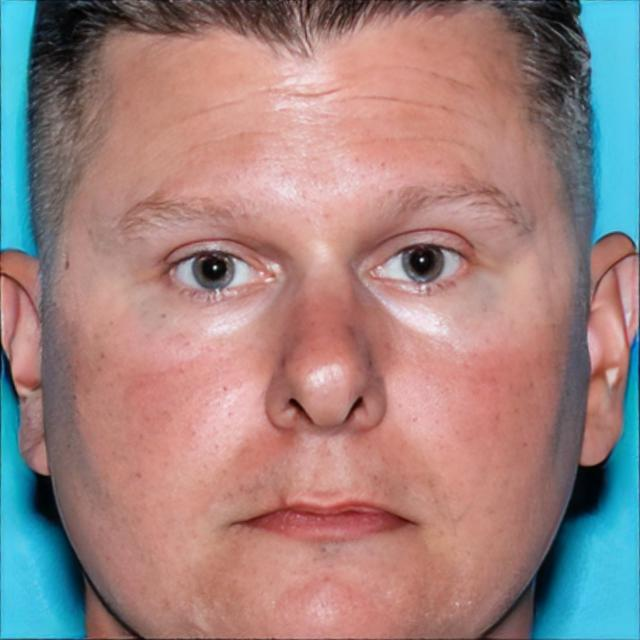neutral: (34, 0, 588, 636)
